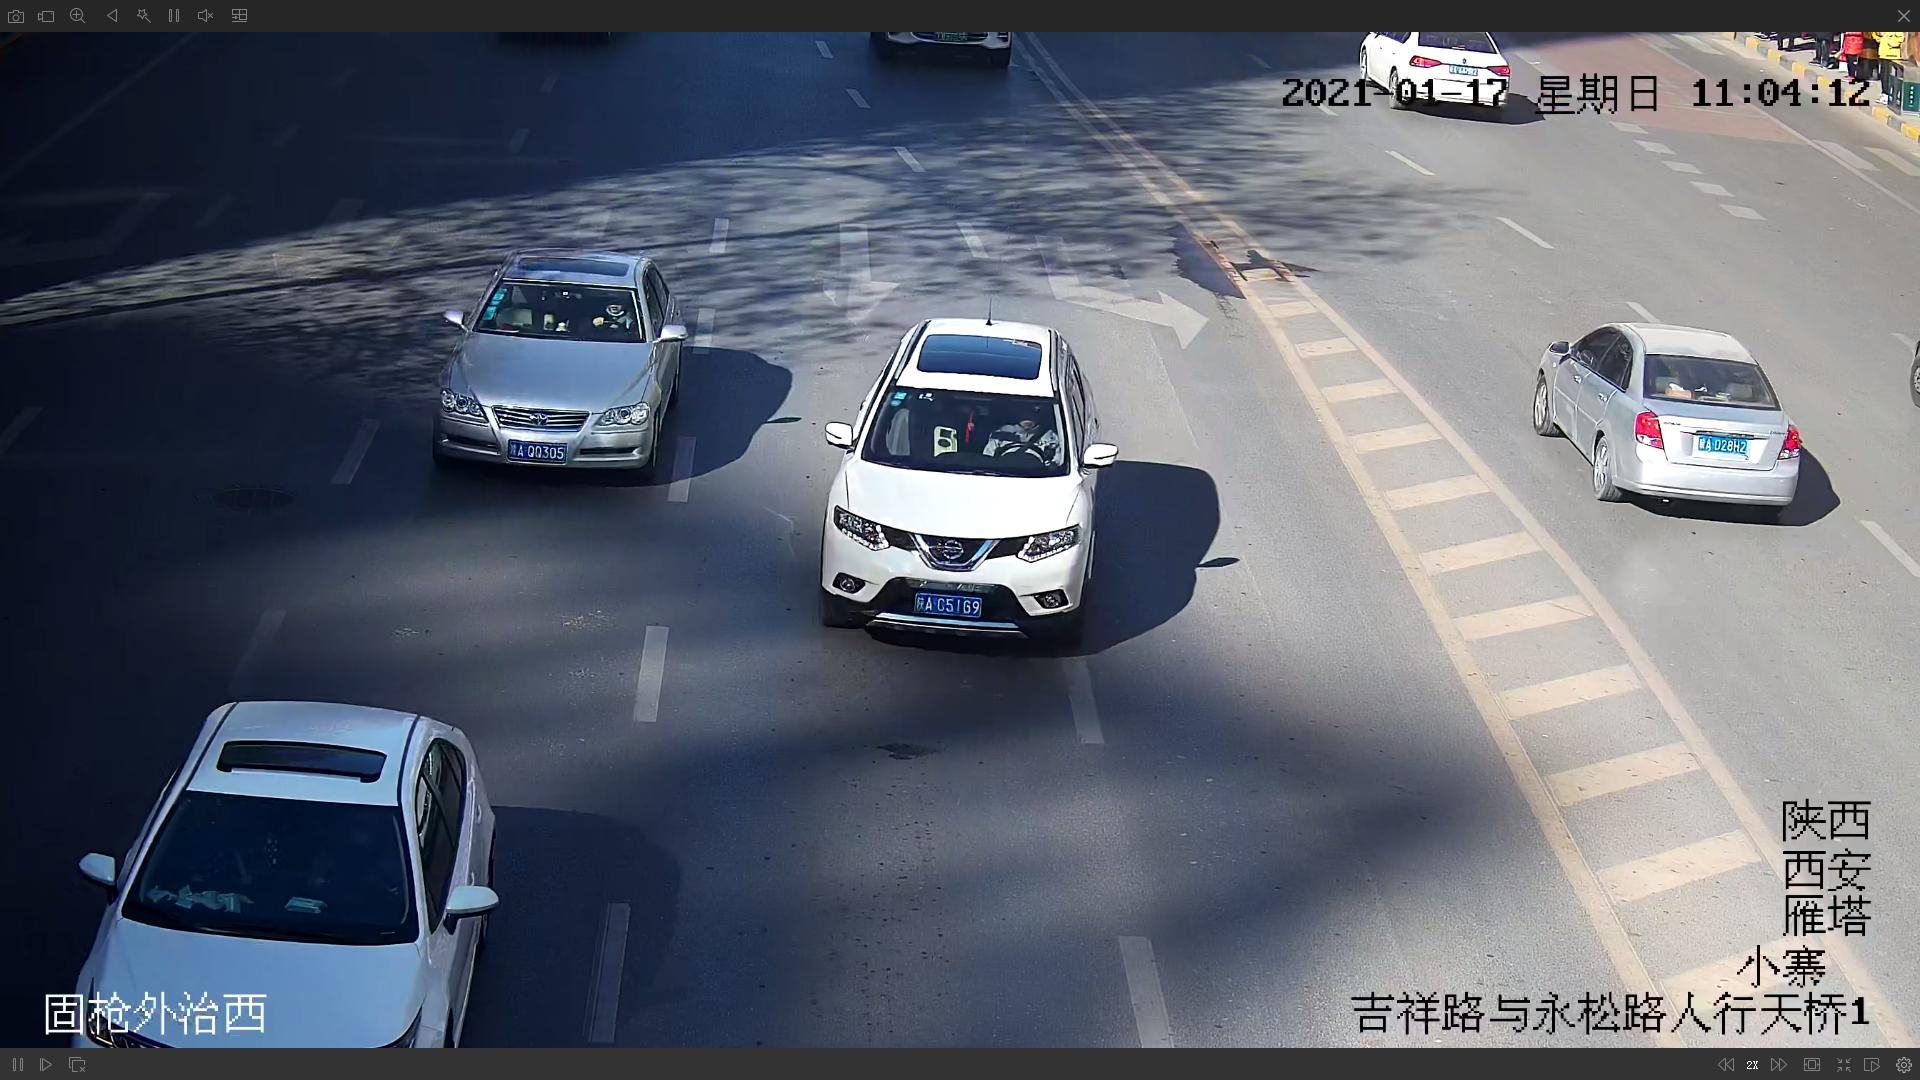silver-gray: (440, 252, 684, 476)
white: (62, 702, 495, 1043), (818, 311, 1122, 644)
